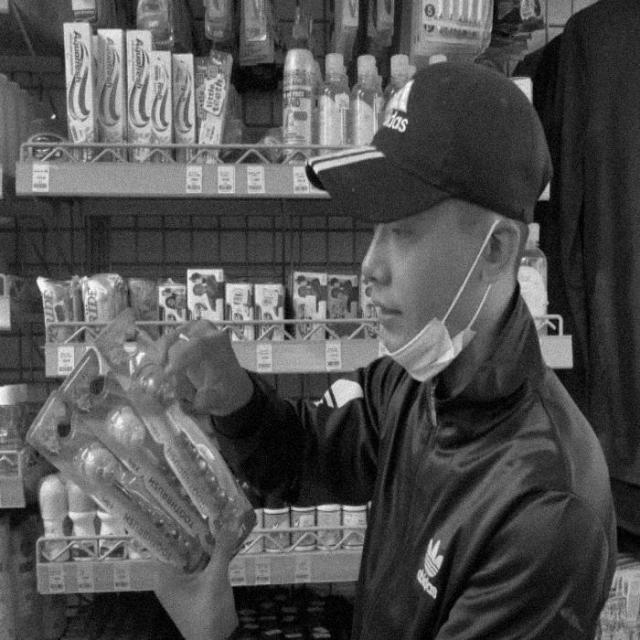hairnet: (364, 248, 477, 384)
